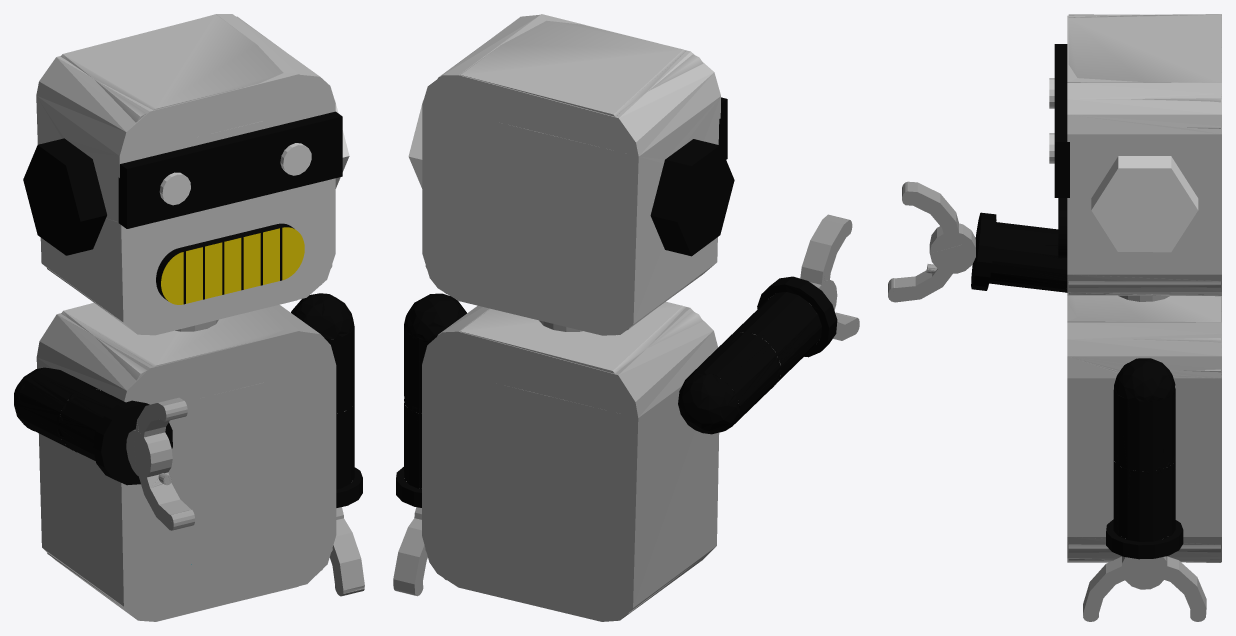
Rendered from BODY.gltf.
The picture shows the model from 3 angles, left to right: view 1: azimuth 30°, elevation 25°; view 2: azimuth 150°, elevation 25°; view 3: azimuth 270°, elevation 25°; orthographic projection. The views are drawn at different scales.
Size of the model in its own units: 0.1204 by 0.1806 by 0.1081.
